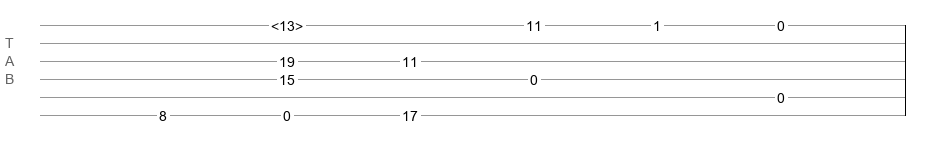0: (283, 108, 291, 118), (530, 72, 538, 82), (777, 18, 785, 28), (777, 90, 785, 100)
1: (653, 18, 661, 28)
11: (402, 54, 418, 64), (526, 18, 542, 28)
15: (279, 72, 295, 82)
17: (402, 108, 418, 118)
19: (279, 54, 295, 64)
8: (159, 108, 167, 118)
harmonic: (271, 18, 303, 28)
